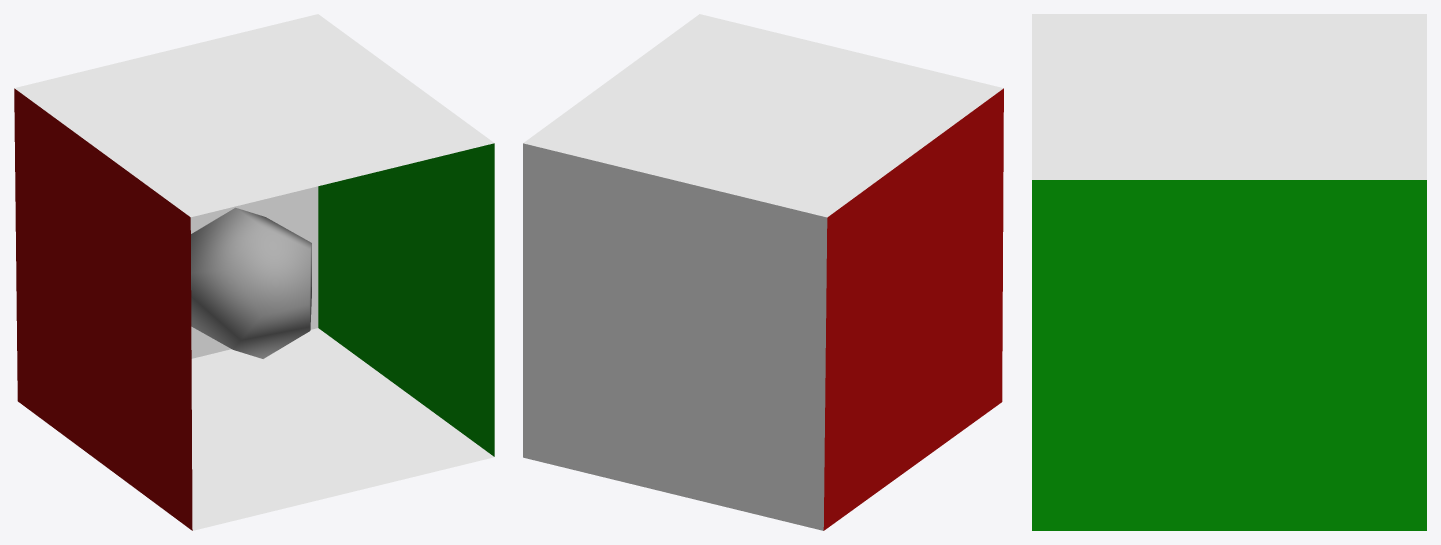
The model's file is cornell_box_catmull_clark_ico.fbx.
3 renders of one model, left to right at view 1: azimuth 30°, elevation 25°; view 2: azimuth 150°, elevation 25°; view 3: azimuth 270°, elevation 25°, orthographic. The views are drawn at different scales.
Parts seen in each view (by area): view 1: object2, object4, object3, smoothed_mesh; view 2: object2, object4; view 3: object3, object2.
Boxes of the visible parts, x1=… form: object2: x1=14, y1=14, x2=494, y2=530; object4: x1=14, y1=88, x2=192, y2=530; object3: x1=318, y1=143, x2=494, y2=456; smoothed_mesh: x1=191, y1=207, x2=311, y2=358; object2: x1=523, y1=14, x2=1003, y2=530; object4: x1=823, y1=88, x2=1003, y2=530; object3: x1=1032, y1=180, x2=1426, y2=530; object2: x1=1032, y1=14, x2=1426, y2=179.
Bounding box in the file's own units: 23.28 × 22.98 × 23.41.
